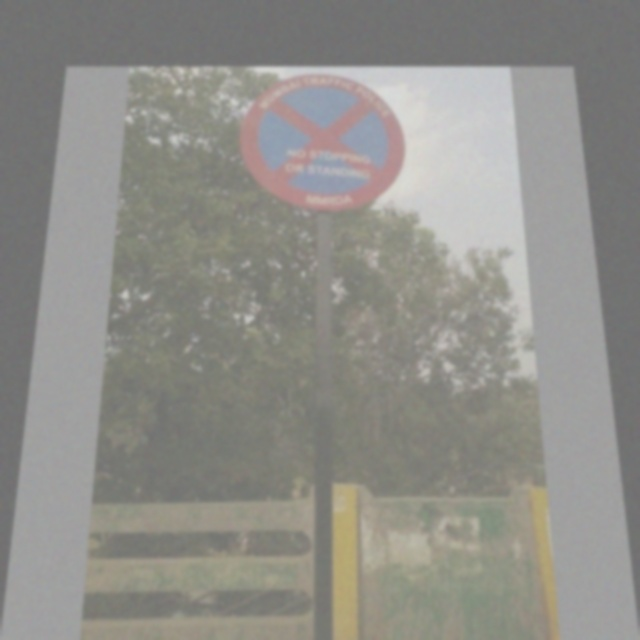No_Stopping_or_Standing: (238, 71, 414, 219)
